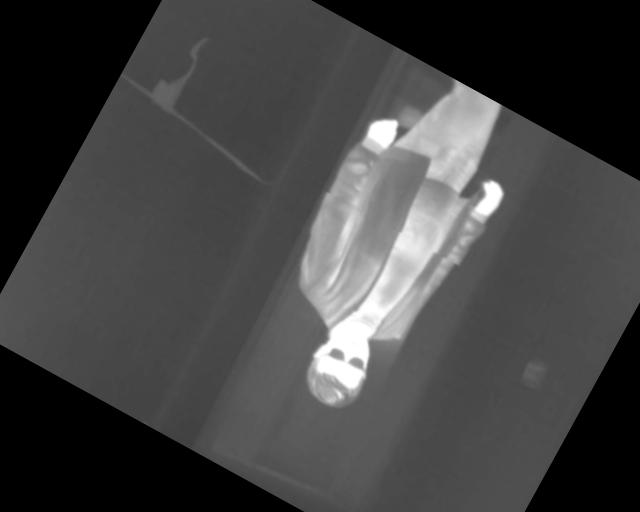face: (294, 316, 386, 418)
